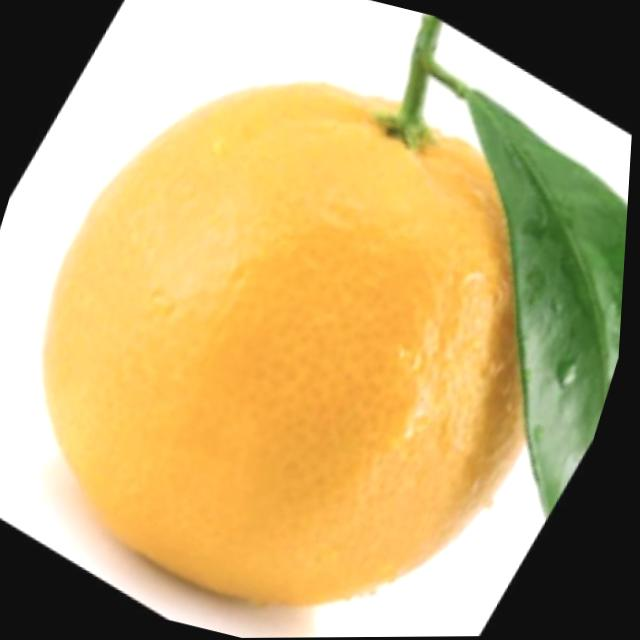Orange: (0, 27, 625, 640)
